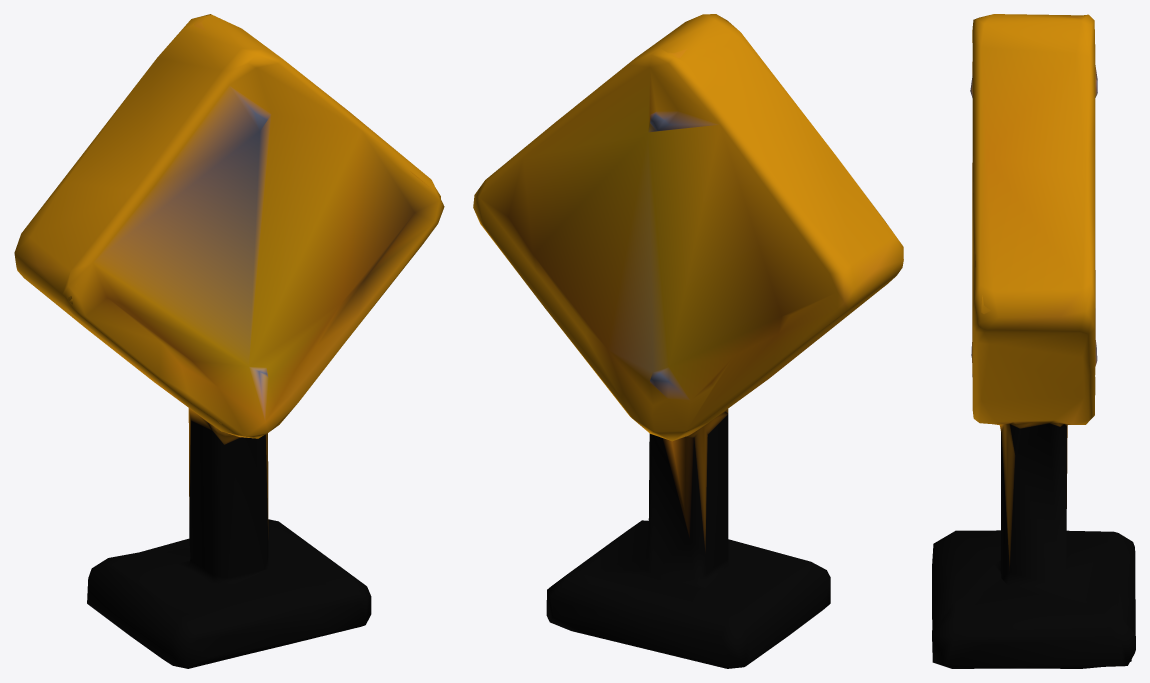
Rendered from gen3d-kangaroo-sign-lod1.glb.
3 renders of one model, left to right at view 1: azimuth 30°, elevation 25°; view 2: azimuth 150°, elevation 25°; view 3: azimuth 270°, elevation 25°, orthographic. The views are drawn at different scales.
Visible parts, largest first — view 1: part_0; view 2: part_0; view 3: part_0.
Part boxes in pixels (box(x1,y1,x2,y2)): part_0: box(14, 14, 444, 668); part_0: box(473, 14, 903, 668); part_0: box(932, 14, 1135, 668).
Size of the model in its own units: 0.6876 by 0.9981 by 0.3064.
